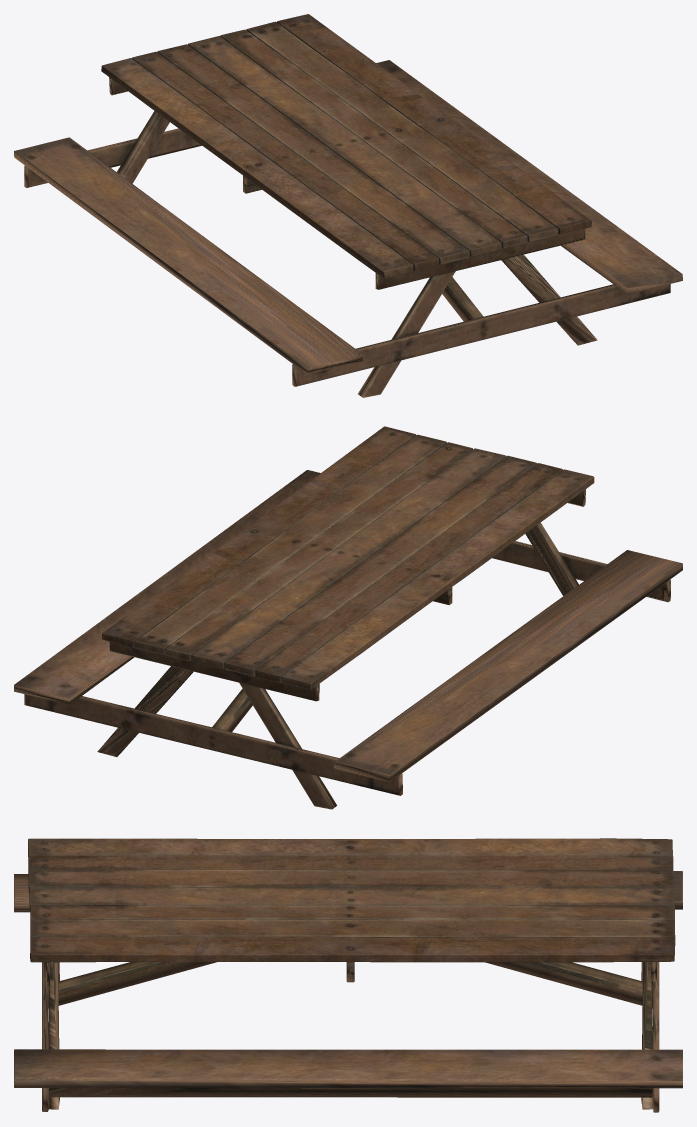
File: wooden_picnic_table.gltf
3 views of the same model, one above another, from view 1: azimuth 30°, elevation 25°; view 2: azimuth 150°, elevation 25°; view 3: azimuth 270°, elevation 25° (orthographic). The views are drawn at different scales.
Bounding box in the file's own units: 2.24 × 0.7447 × 3.02.
Materials: 2 (2 with a texture image).
